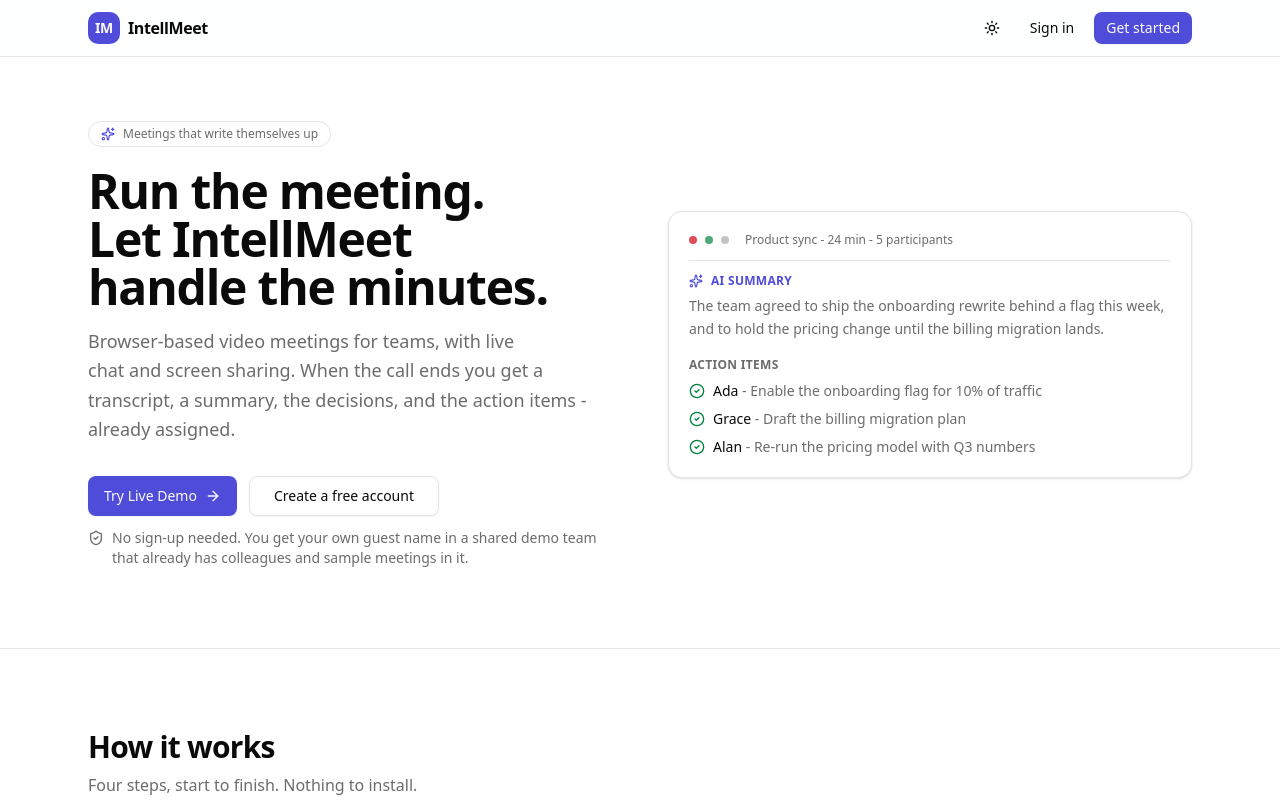
Test: <LandingPage /> › loads the theme menu when it is pressed, and opens it straight away
The width and height of the screenshot is (1280, 800).
Click the button named "Theme: system. Change theme" at (992, 28), box [974,10,1010,46]
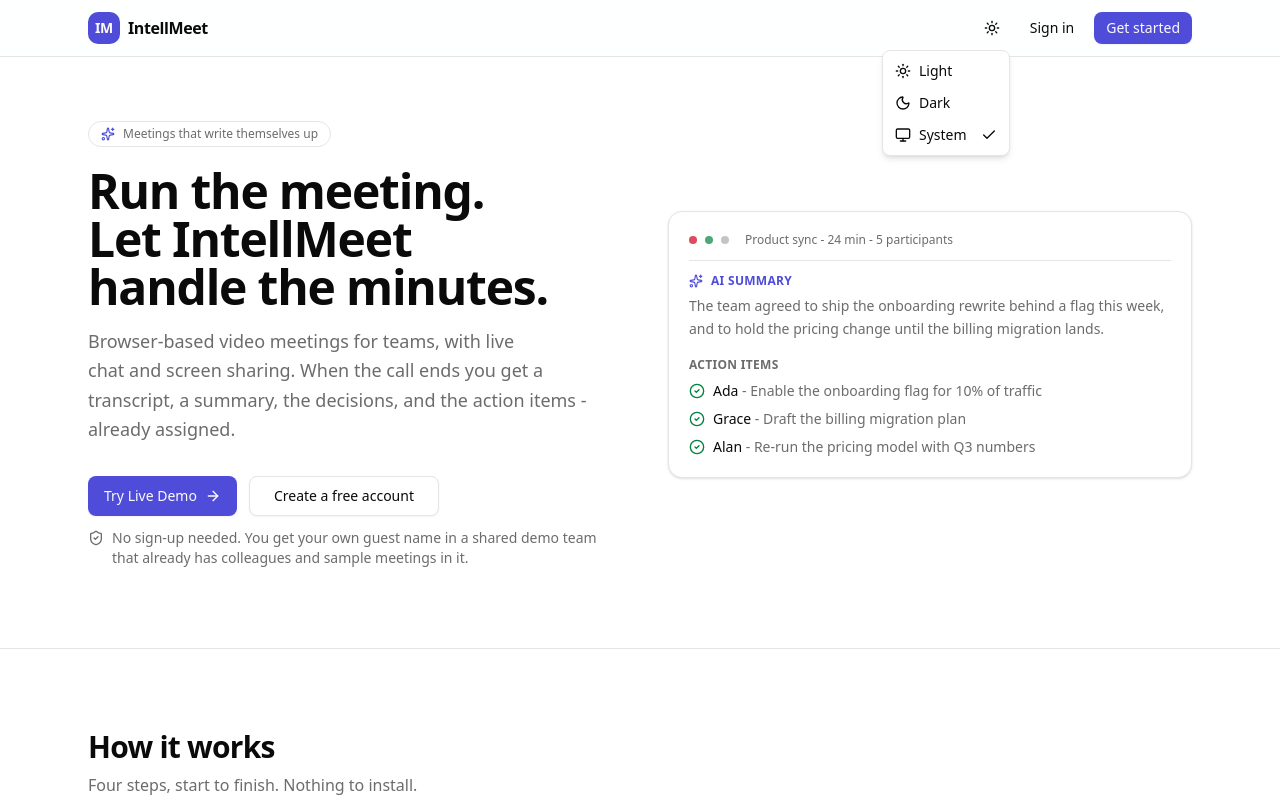
Click the menu item "Dark" at (923, 102), box [895,93,950,112]
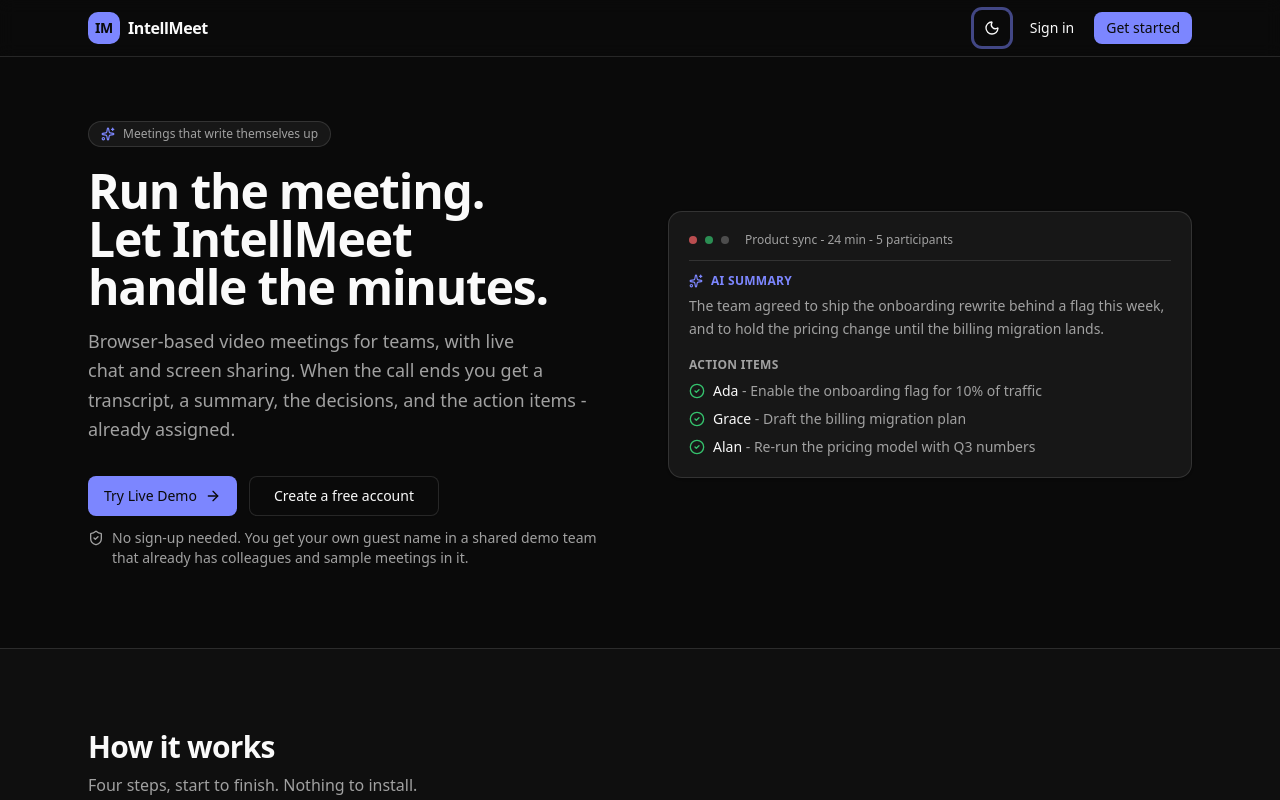
Check: the button named "Theme: dark. Change theme" is shown, box [974,10,1010,46]
